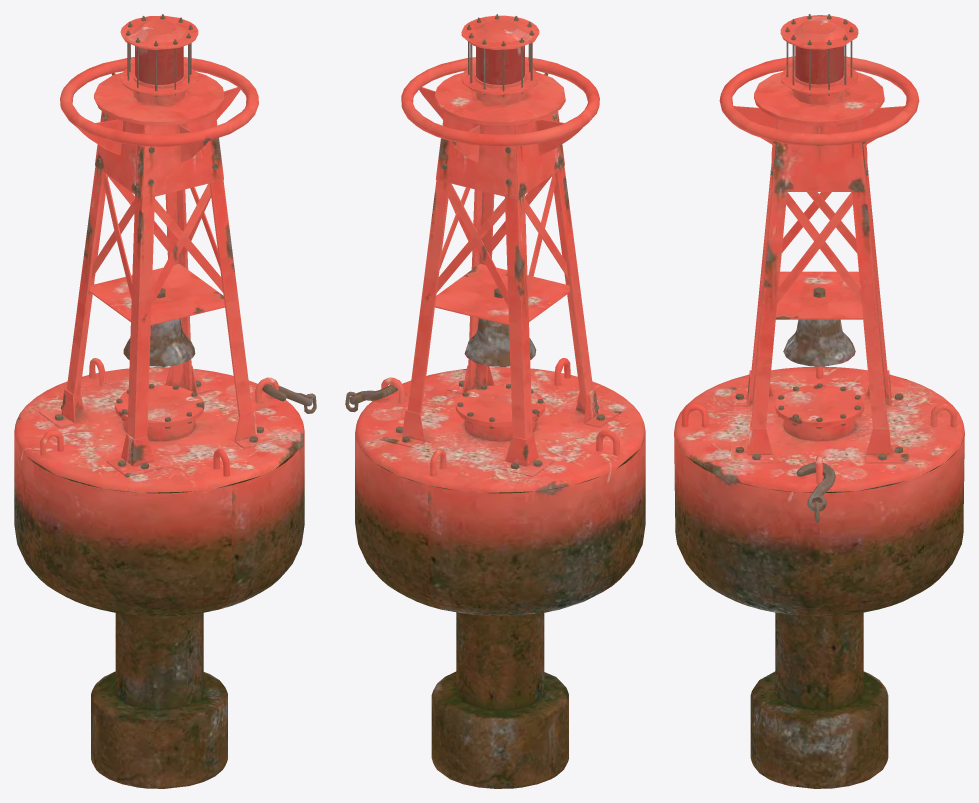
The model's file is ocean_buoy.glb.
The picture shows the model from 3 angles, left to right: view 1: azimuth 30°, elevation 25°; view 2: azimuth 150°, elevation 25°; view 3: azimuth 270°, elevation 25°; orthographic projection.
Visible parts, largest first — view 1: ocean_buoy; view 2: ocean_buoy; view 3: ocean_buoy.
Boxes of the visible parts, x1=… form: ocean_buoy: x1=14, y1=14, x2=316, y2=788; ocean_buoy: x1=345, y1=14, x2=645, y2=788; ocean_buoy: x1=674, y1=14, x2=964, y2=788.
Bounding box in the file's own units: 1.07 × 2.66 × 0.9521.
Materials: 1 (1 with a texture image).
